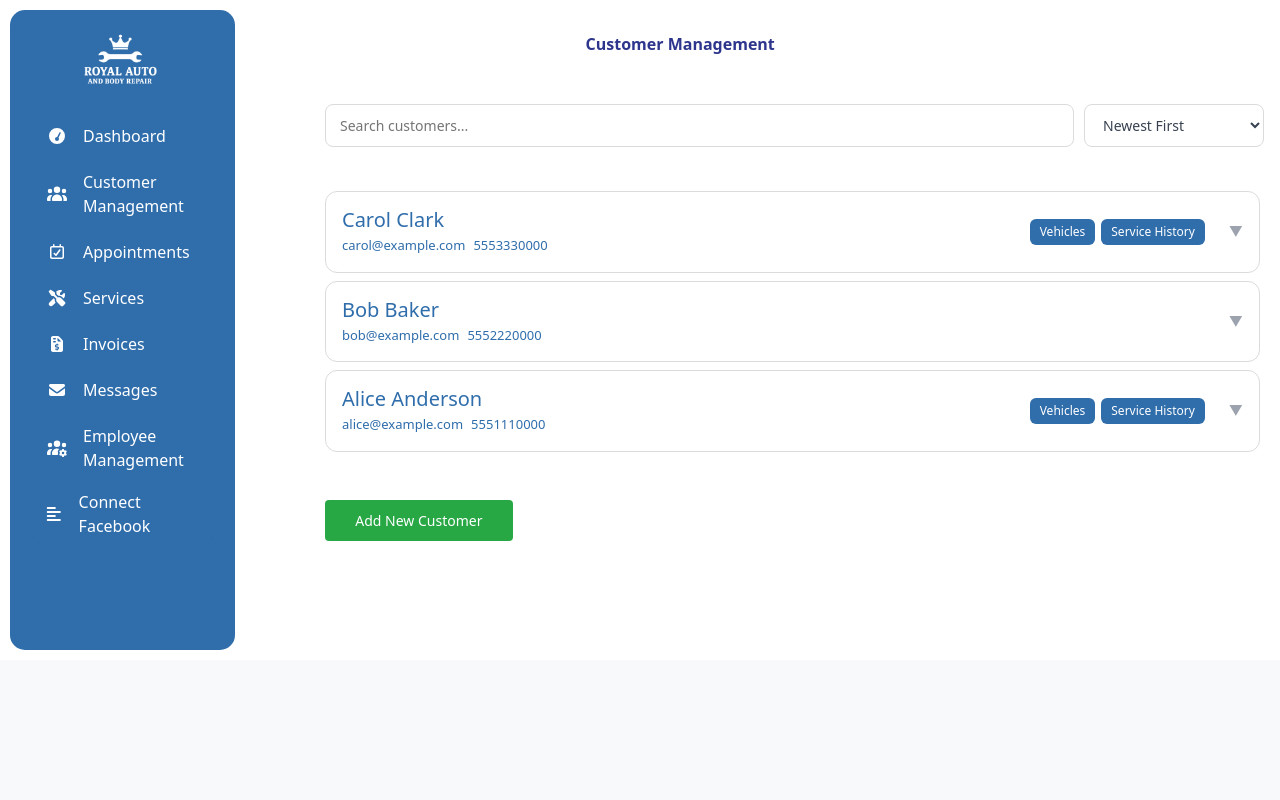
Scenario: Search & Sort › filters customers by email
Check: the heading "Alice Anderson" is shown, box [342,385,482,412]
Type "bob@" into the field with placeholder "Search customers..." at (700, 126), box [325,104,1074,147]
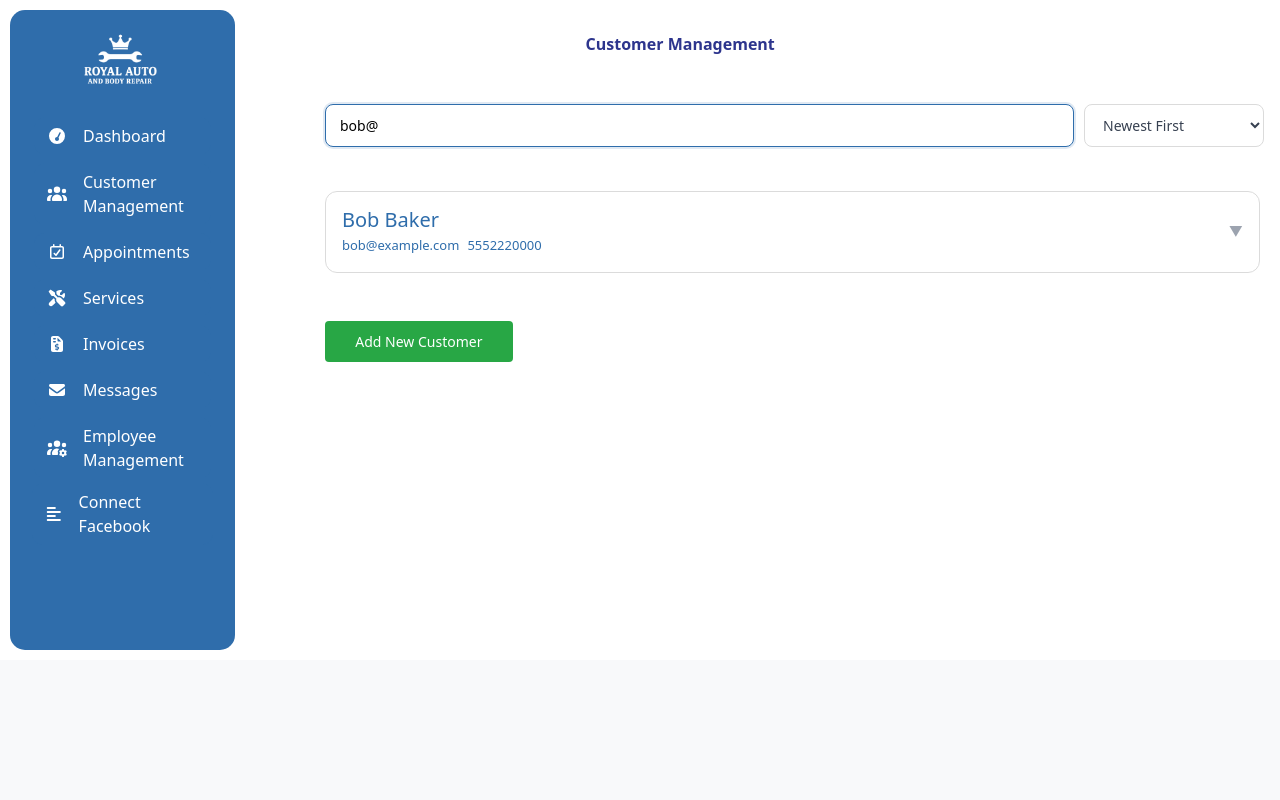
Check: the heading "Bob Baker" is shown, box [342,206,439,233]
Check: the heading "Alice Anderson" is gone
